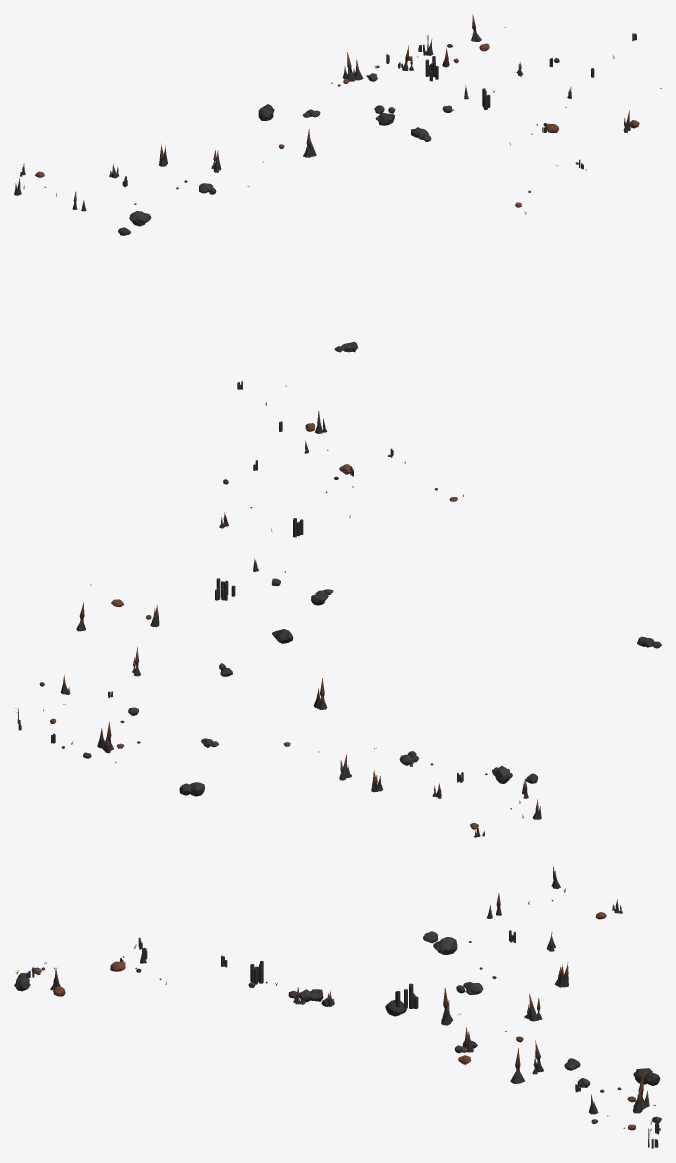
The model's file is ash_land_scatter_c20_28.glb.
3 renders of one model, top to bottom at view 1: azimuth 30°, elevation 25°; view 2: azimuth 150°, elevation 25°; view 3: azimuth 270°, elevation 25°, orthographic. The views are drawn at different scales.
Visible parts, largest first — view 1: ash_land_scatter_c20_28; view 2: ash_land_scatter_c20_28; view 3: ash_land_scatter_c20_28.
Boxes of the visible parts, left/top/right/bottom form: ash_land_scatter_c20_28: left=14, top=14, right=661, bottom=352; ash_land_scatter_c20_28: left=16, top=381, right=661, bottom=837; ash_land_scatter_c20_28: left=14, top=866, right=661, bottom=1148.
Bounding box in the file's own units: 258 × 110 × 258.
